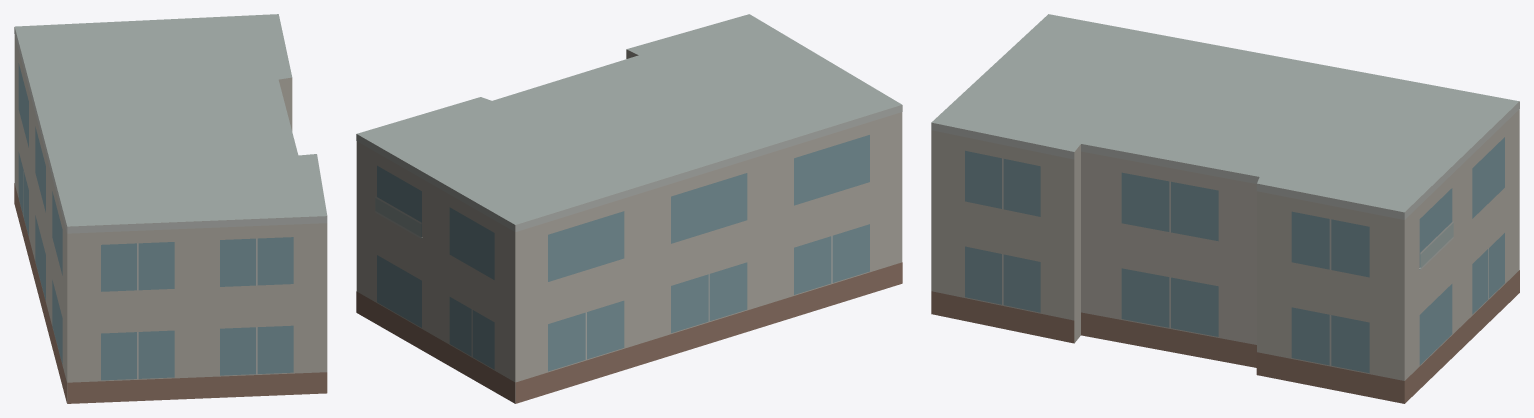
File: survey-upis-32670348.glb
The picture shows the model from 3 angles, left to right: view 1: azimuth 30°, elevation 25°; view 2: azimuth 150°, elevation 25°; view 3: azimuth 270°, elevation 25°; orthographic projection. The views are drawn at different scales.
Visible parts, largest first — view 1: survey-upis-32670348.tmp; view 2: survey-upis-32670348.tmp; view 3: survey-upis-32670348.tmp.
Part boxes in pixels (box(x1,y1,x2,y2)): survey-upis-32670348.tmp: box(14, 14, 327, 403); survey-upis-32670348.tmp: box(356, 14, 902, 403); survey-upis-32670348.tmp: box(931, 14, 1519, 403).
Bounding box in the file's own units: 13.56 × 6.1 × 17.
